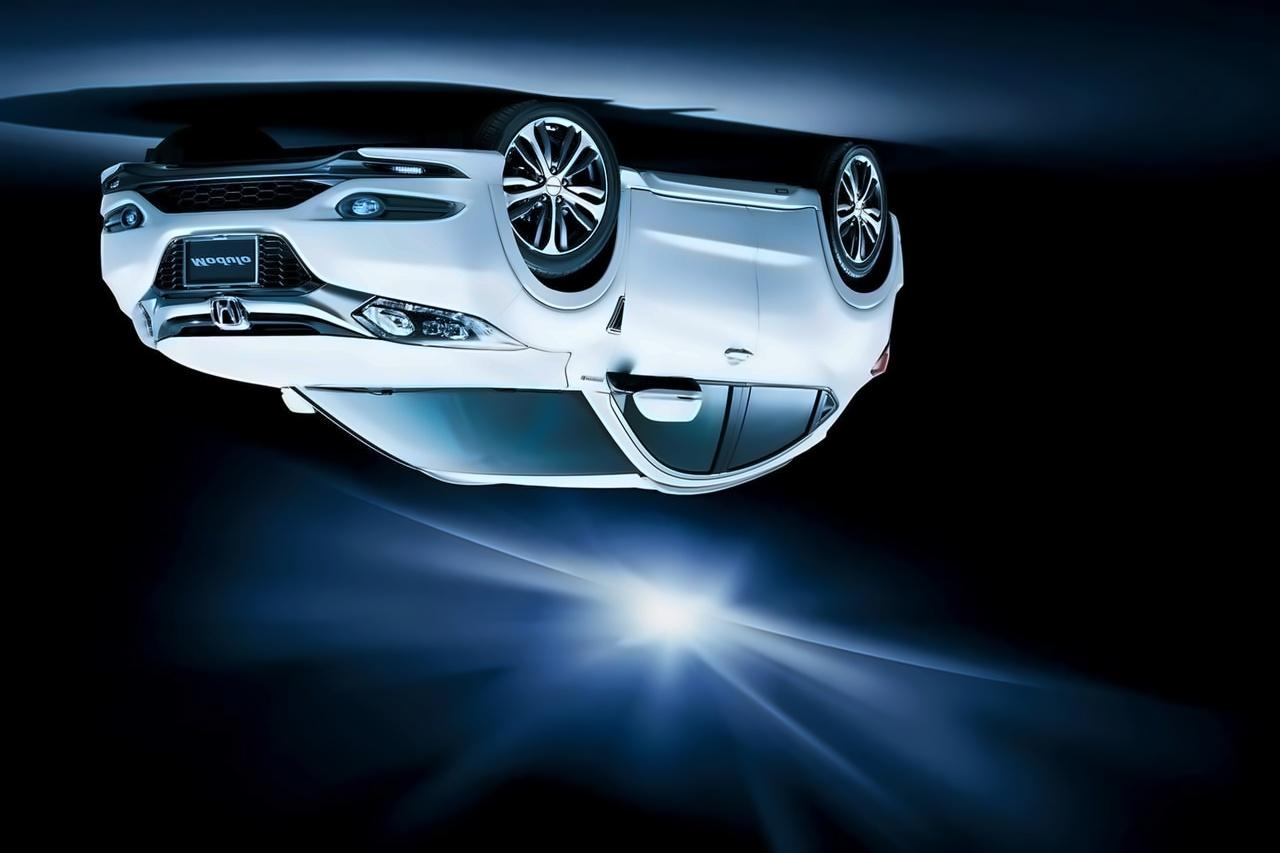Car hood: (149, 334, 571, 391)
Driver-s door - -F-R-: (618, 174, 761, 489)
Fender - -F-R-: (499, 153, 634, 430)
Fender - -R-R-: (814, 180, 904, 366)
Front bumper: (93, 137, 526, 284)
Headlight - -L-: (120, 296, 170, 353)
Headlight - -R-: (337, 287, 532, 358)
Passenger-s door - -R-R-: (734, 194, 836, 479)
Rear bumper: (879, 212, 917, 296)
Rear light - -R-: (866, 334, 897, 380)
Side bumper - -R-: (613, 160, 823, 214)
Side mirror - -L-: (267, 373, 322, 426)
Side mirror - -R-: (604, 364, 706, 428)
